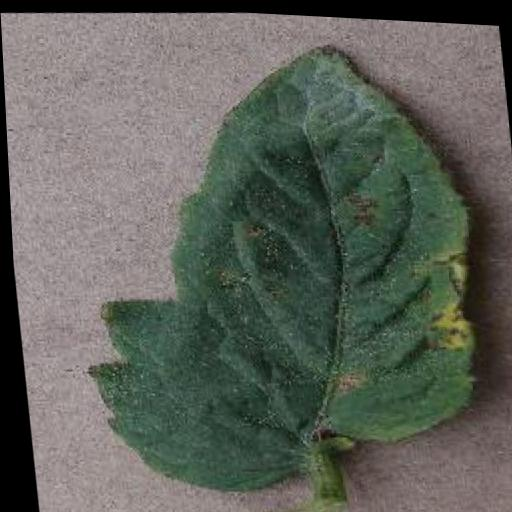Bacterial Spot: (44, 19, 497, 511)
